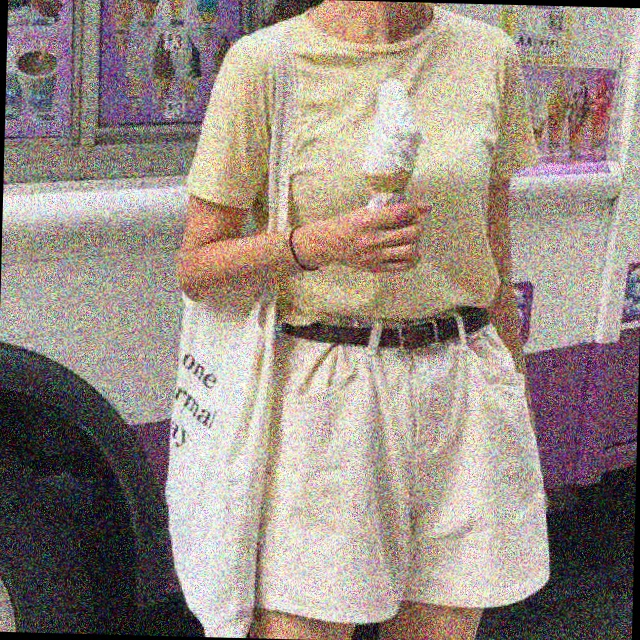Shorts: (248, 301, 561, 640)
